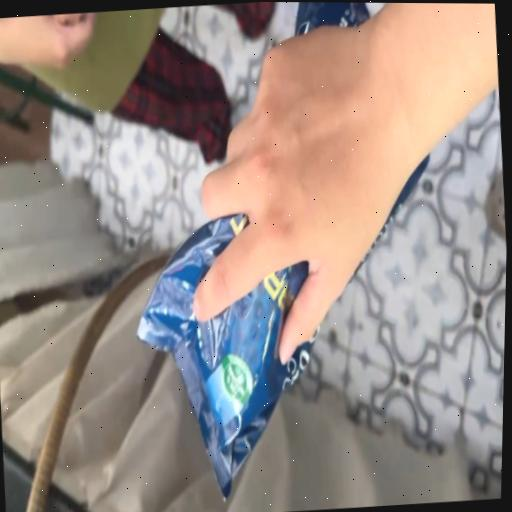cafe_hat: (138, 213, 313, 497), (356, 155, 429, 271), (295, 2, 370, 33)
